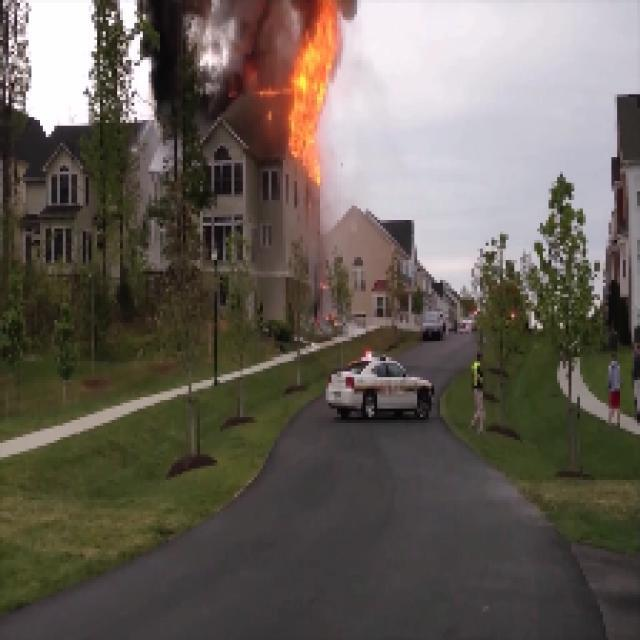Fire: (280, 9, 348, 176)
Smoke: (140, 4, 275, 119)
